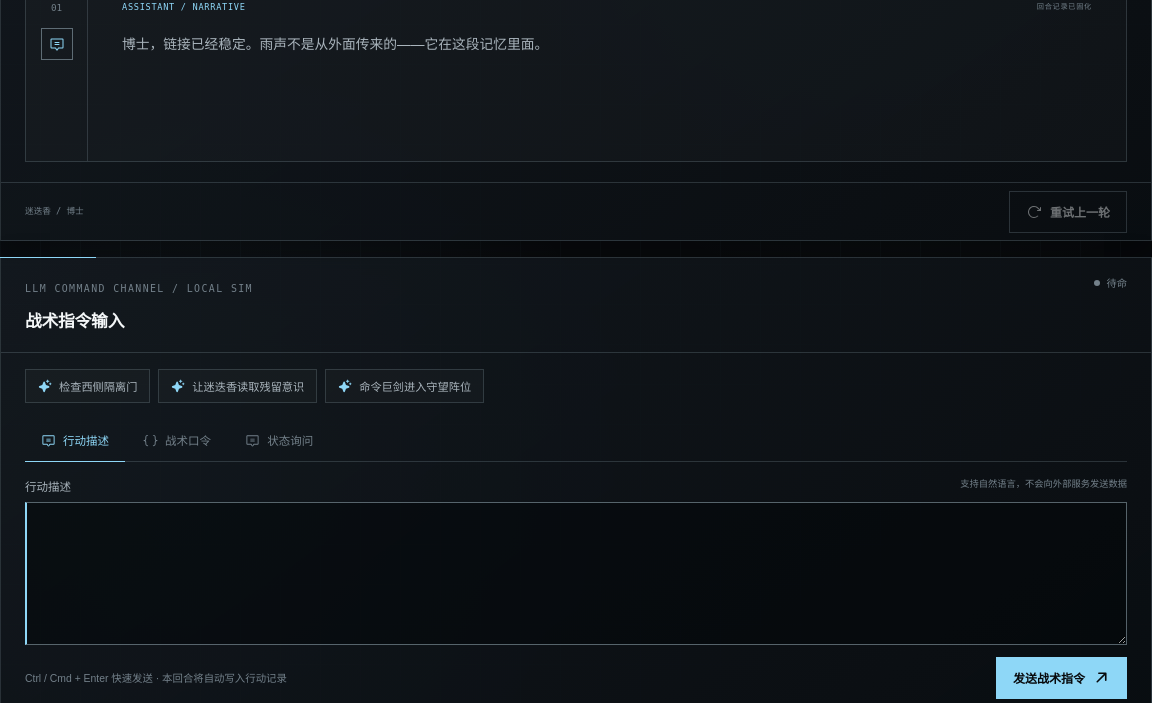
Scenario: 数字快捷键只填入选项，不会自动提交
(page scrolled)
In the text box named "战术指令": [576, 573] box [25,502,1127,645], type "请求路线"
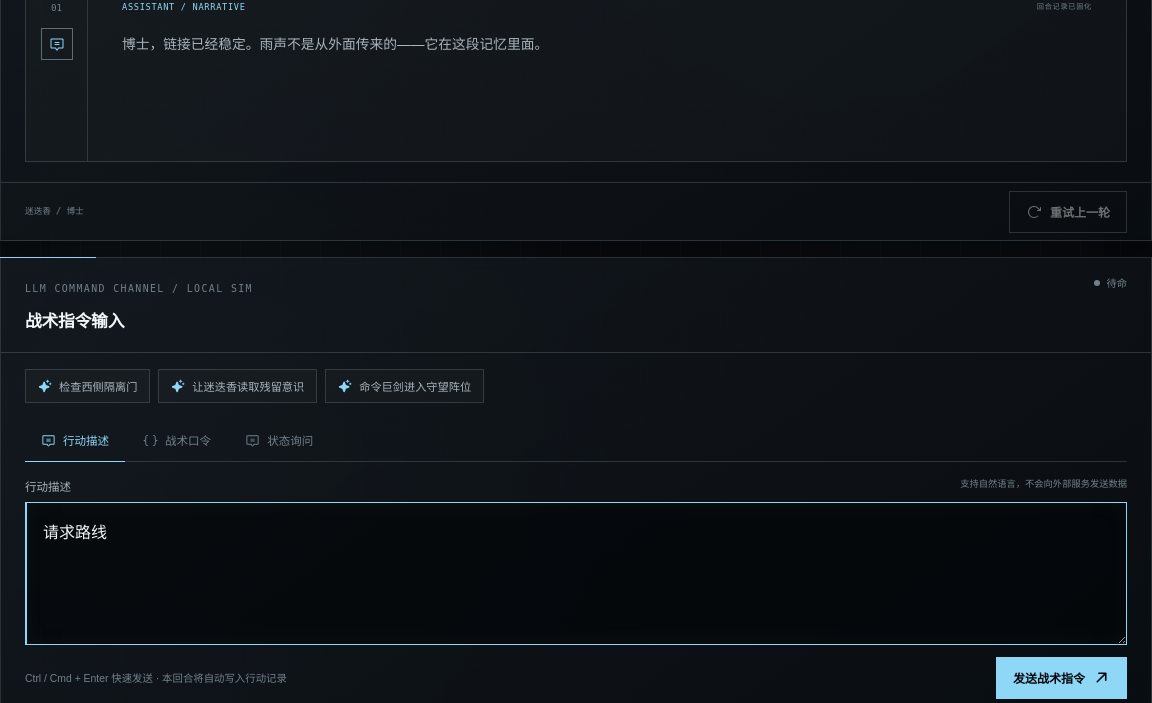
Click the button "发送战术指令": [1062, 678] box [996,657,1127,699]
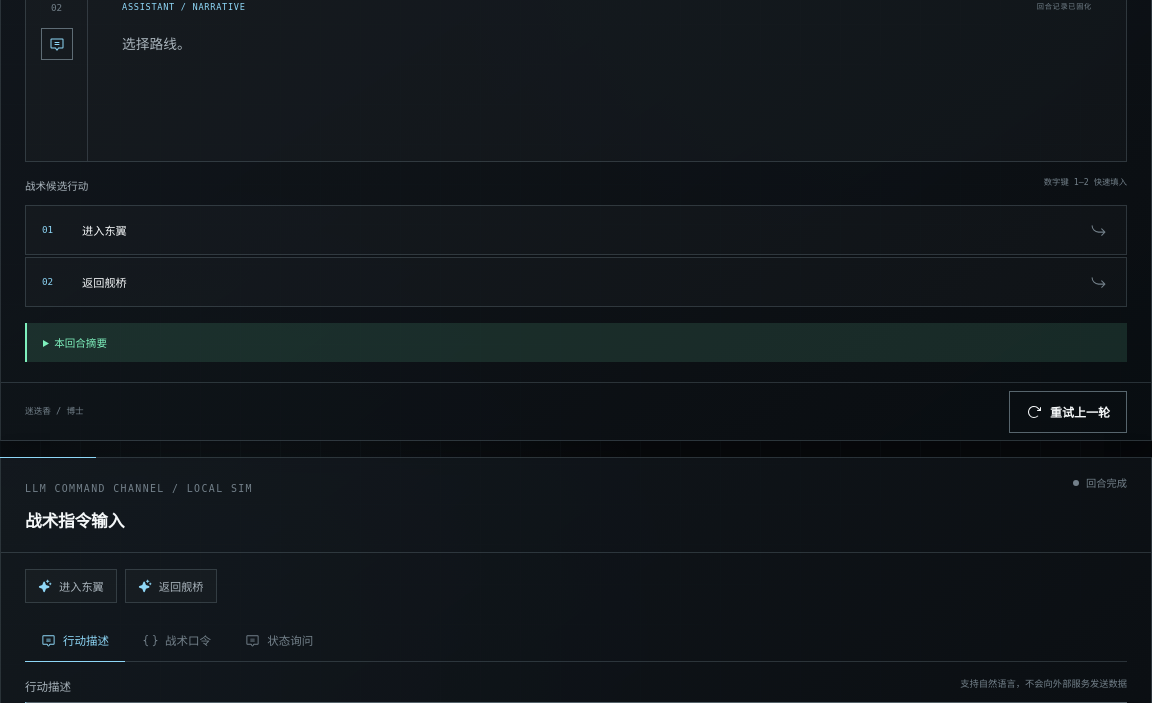
Now the button with aria-label "选择：进入东翼" is shown, box [25,205,1127,255]
Type keys "1"
(page scrolled)
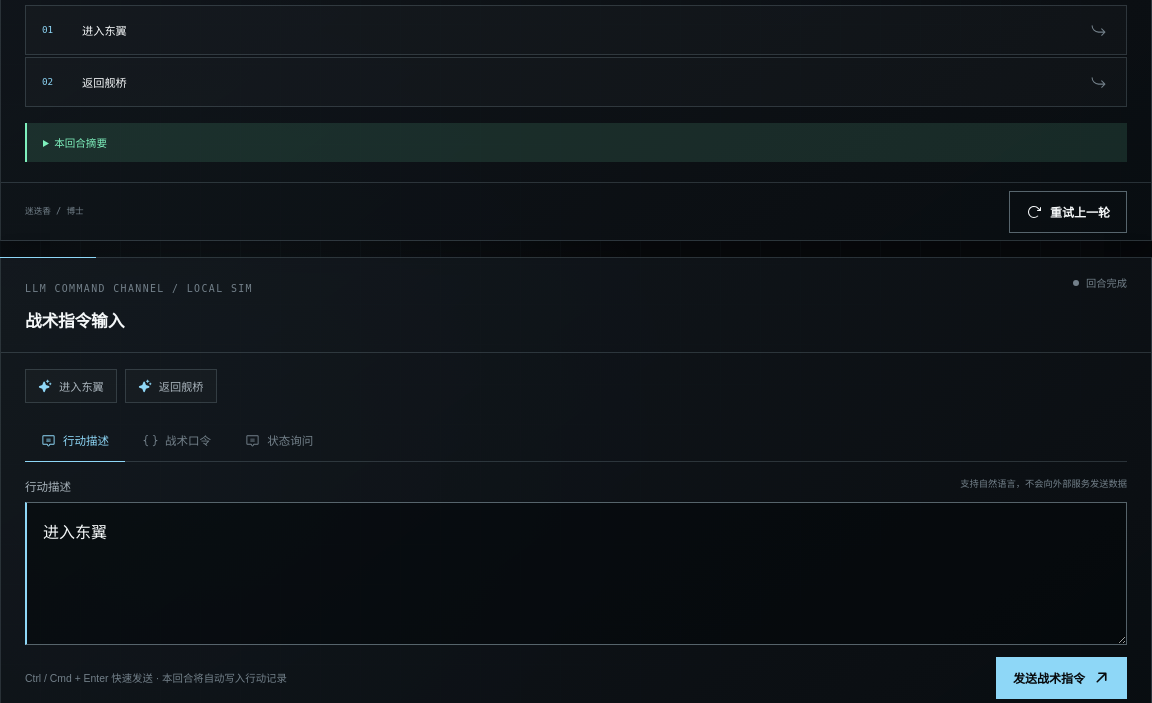
Now the text box named "战术指令" holds "进入东翼", box [25,502,1127,645]
